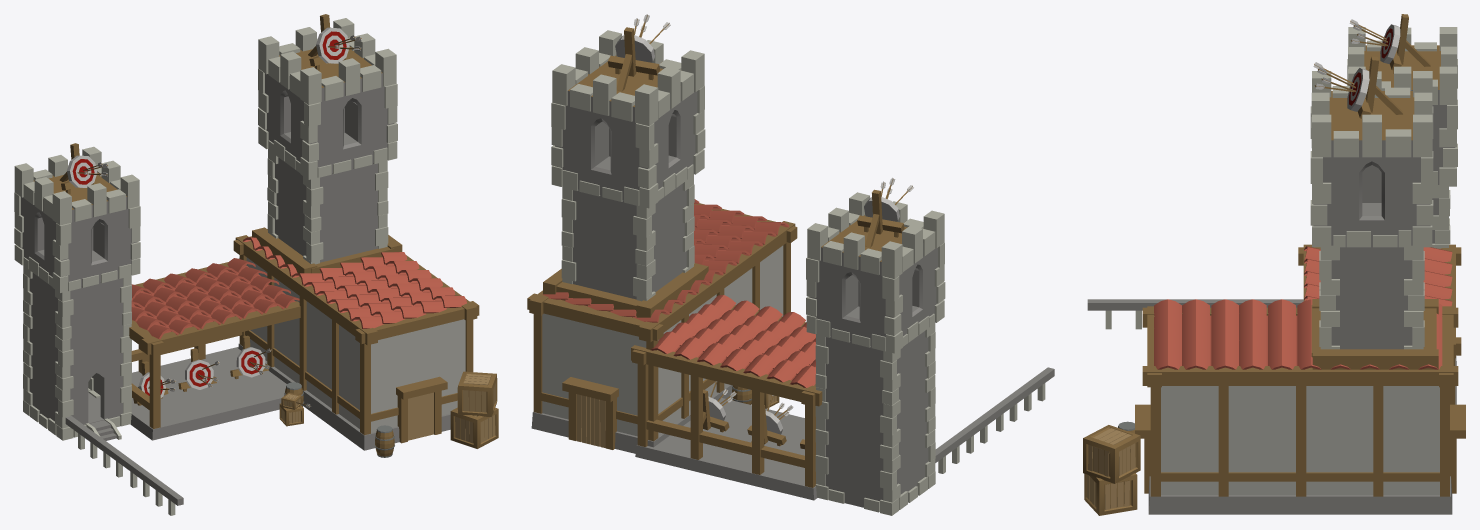
File: quaternius-ultimate-fantasy-rts-archery-secondage-level-3.glb
The picture shows the model from 3 angles, left to right: view 1: azimuth 30°, elevation 25°; view 2: azimuth 150°, elevation 25°; view 3: azimuth 270°, elevation 25°; orthographic projection. The views are drawn at different scales.
Parts seen in each view (by area): view 1: Archery_SecondAge_Level3; view 2: Archery_SecondAge_Level3; view 3: Archery_SecondAge_Level3.
Part boxes in pixels (x1,y1,x2,y2): Archery_SecondAge_Level3: (14, 14, 498, 515); Archery_SecondAge_Level3: (527, 14, 1054, 515); Archery_SecondAge_Level3: (1083, 14, 1465, 515).
Size of the model in its own units: 1.95 by 1.95 by 1.59.
Materials: 1 (1 with a texture image).
